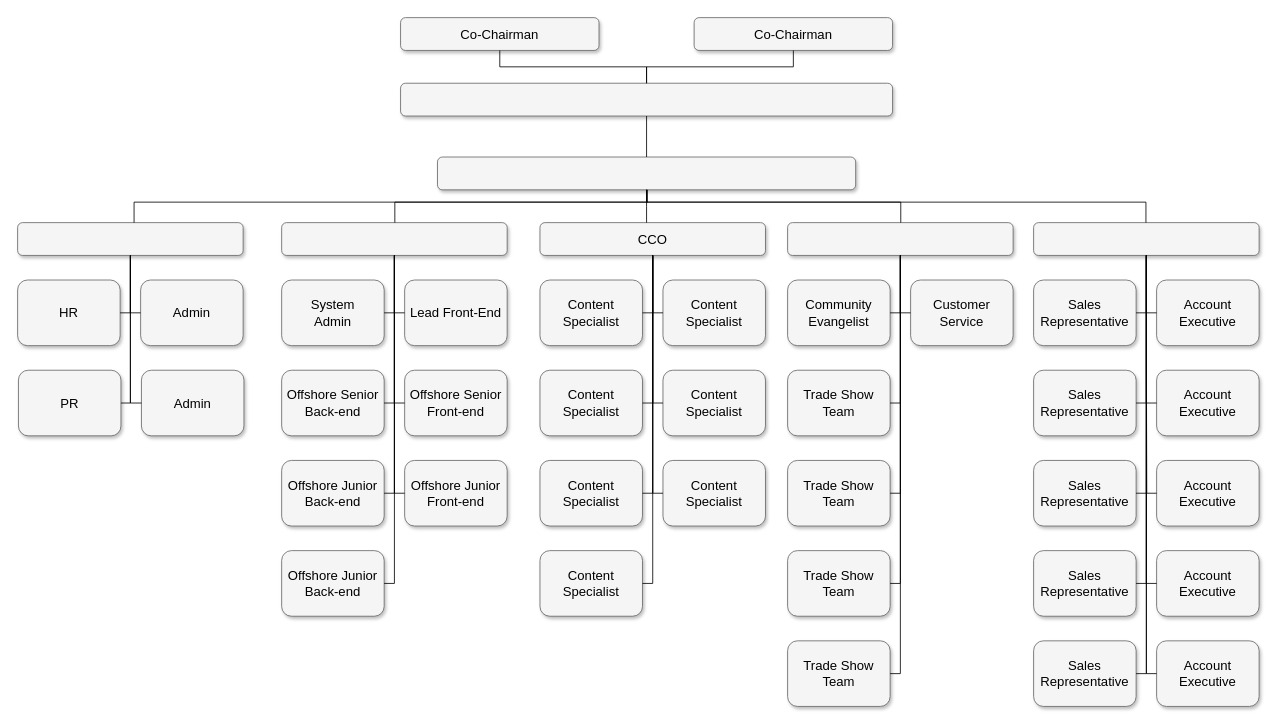
Image size: 1278x727. Some labels were removed from this diagram. Here are the shapes that lost their labels. From the top down, the centre of each, then its label:
At point (646, 100): "CEO".
At point (647, 174): "COO".
At point (131, 240): "CFO".
At point (395, 240): "CTO".
At point (901, 240): "CMO".
At point (1147, 240): "CSO".
